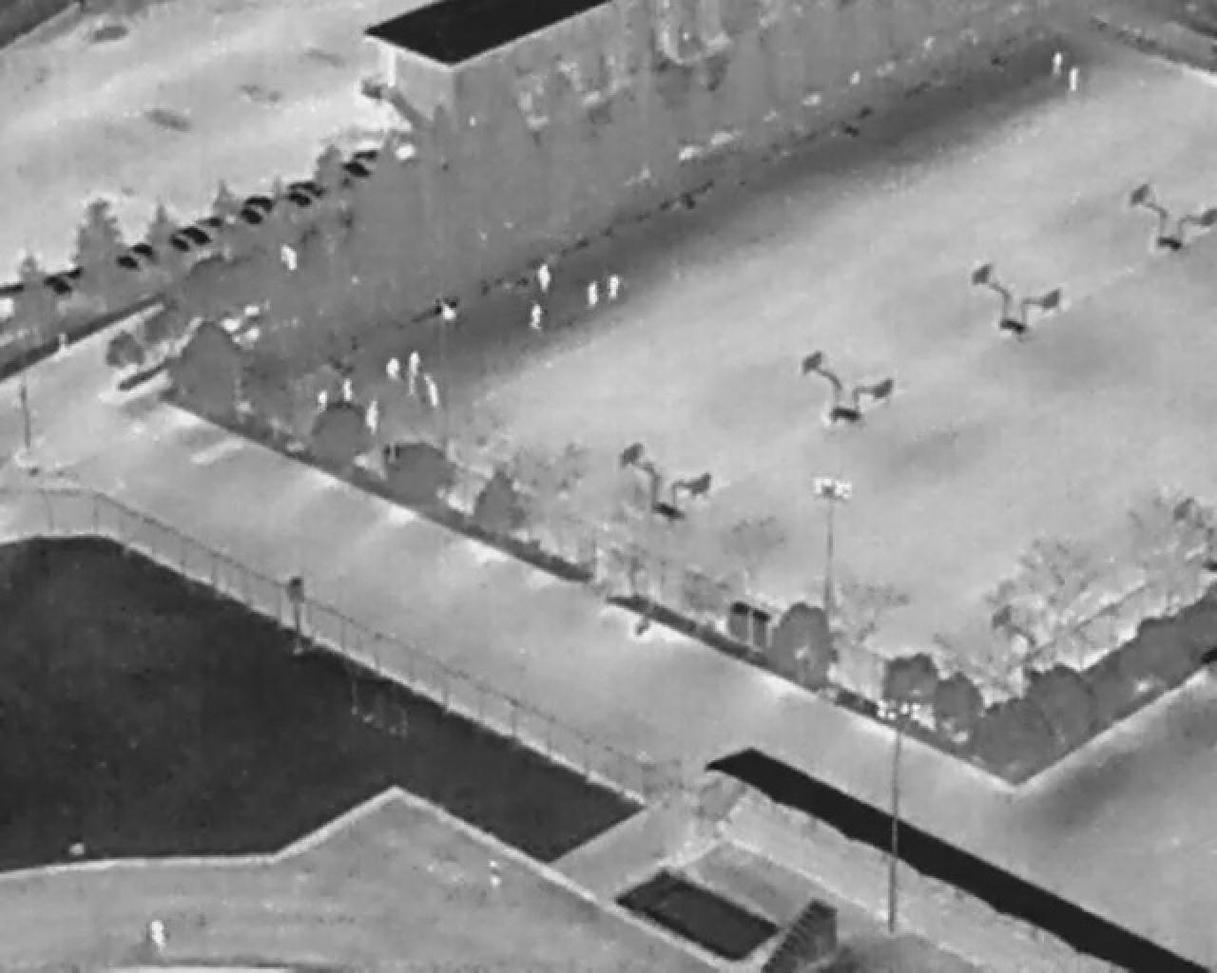person: (421, 372, 444, 413), (406, 351, 423, 396), (366, 400, 383, 440), (484, 858, 505, 888), (535, 265, 554, 294), (149, 921, 170, 947), (1066, 67, 1083, 98), (341, 377, 357, 406), (440, 299, 457, 326), (585, 280, 600, 309), (530, 305, 545, 334), (608, 277, 621, 305), (387, 356, 400, 383), (315, 391, 330, 413), (1053, 50, 1066, 75)
